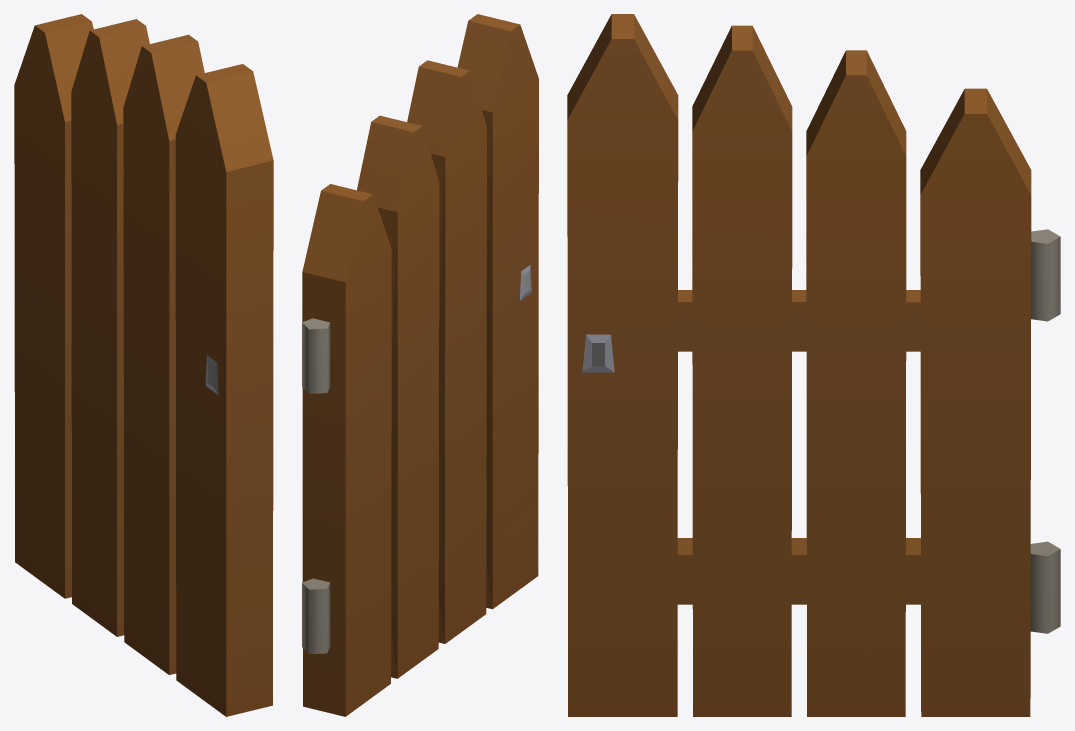
Rendered from Fence_1_B_3.fbx.
3 views of the same model, side by side, from view 1: azimuth 30°, elevation 25°; view 2: azimuth 150°, elevation 25°; view 3: azimuth 270°, elevation 25° (orthographic). The views are drawn at different scales.
Parts seen in each view (by area): view 1: Fence_1_B_3; view 2: Fence_1_B_3; view 3: Fence_1_B_3.
Boxes of the visible parts, bbox=[...] form: Fence_1_B_3: bbox=[14, 14, 273, 716]; Fence_1_B_3: bbox=[302, 14, 538, 716]; Fence_1_B_3: bbox=[567, 14, 1060, 716].
Size of the model in its own units: 5.09 by 60.13 by 39.65.
